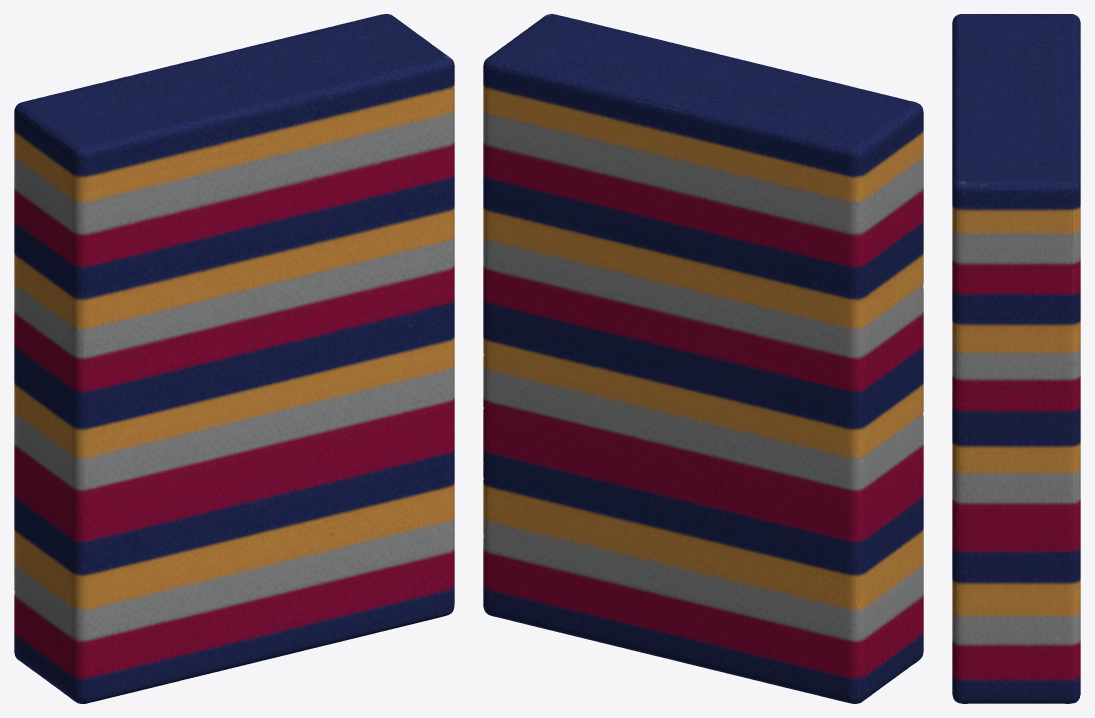
The model's file is item_da36134e.glb.
The picture shows the model from 3 angles, left to right: view 1: azimuth 30°, elevation 25°; view 2: azimuth 150°, elevation 25°; view 3: azimuth 270°, elevation 25°; orthographic projection. The views are drawn at different scales.
Parts seen in each view (by area): view 1: world; view 2: world; view 3: world.
Part boxes in pixels (bbox=[...]): world: bbox=[14, 14, 454, 703]; world: bbox=[483, 14, 923, 703]; world: bbox=[952, 14, 1080, 703].
Size of the model in its own units: 2 by 2.8 by 0.6254.
Materials: 1 (1 with a texture image).
